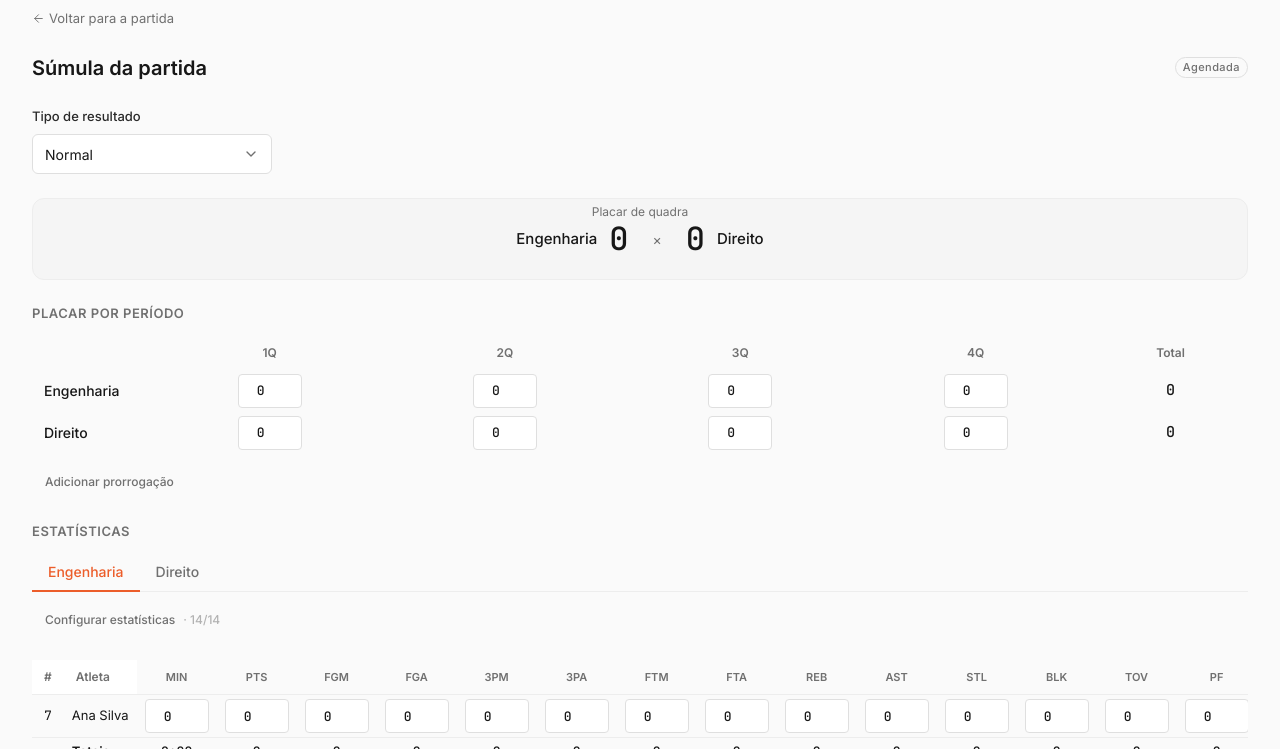
Scenario: MatchSumulaPage — draft › shows the exact API error and preserves edited values
Replace the text in the number field named "Engenharia — 1º período" with "12": (261, 390) [239, 374, 283, 406]
(page scrolled)
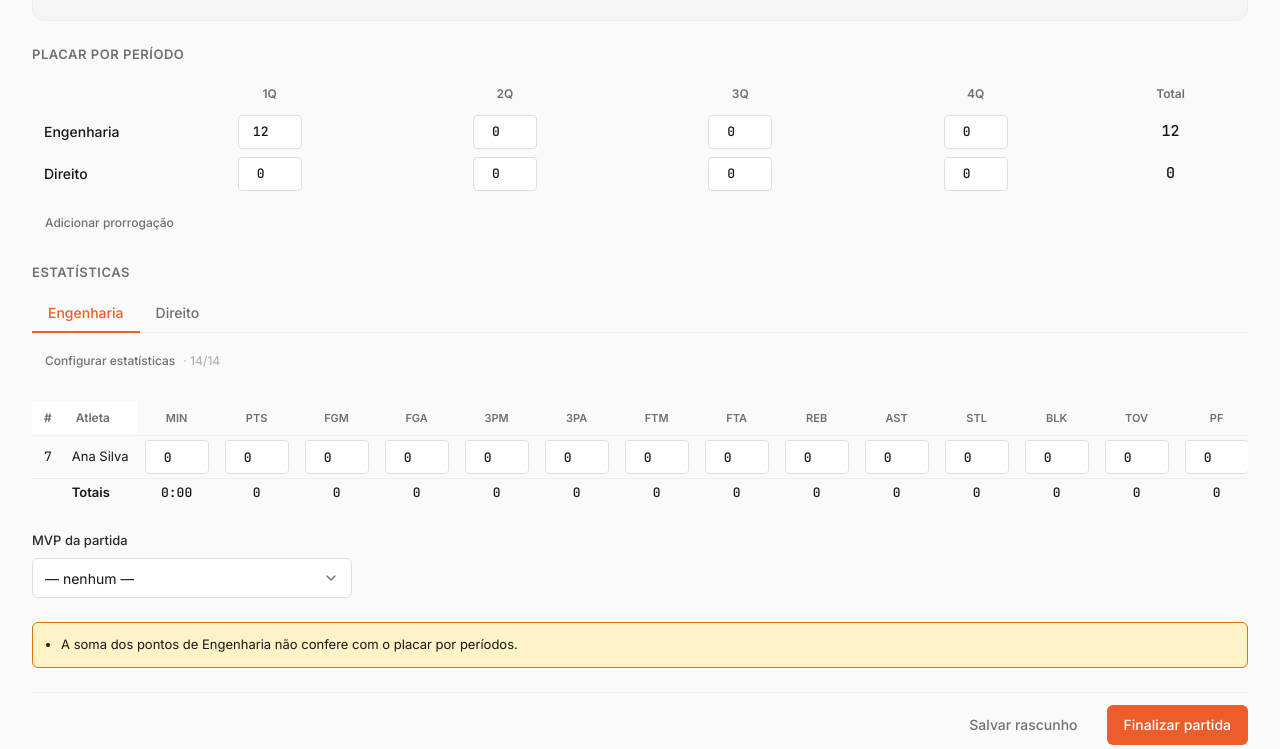
Click the button "Salvar rascunho": (1023, 724) [952, 704, 1095, 744]
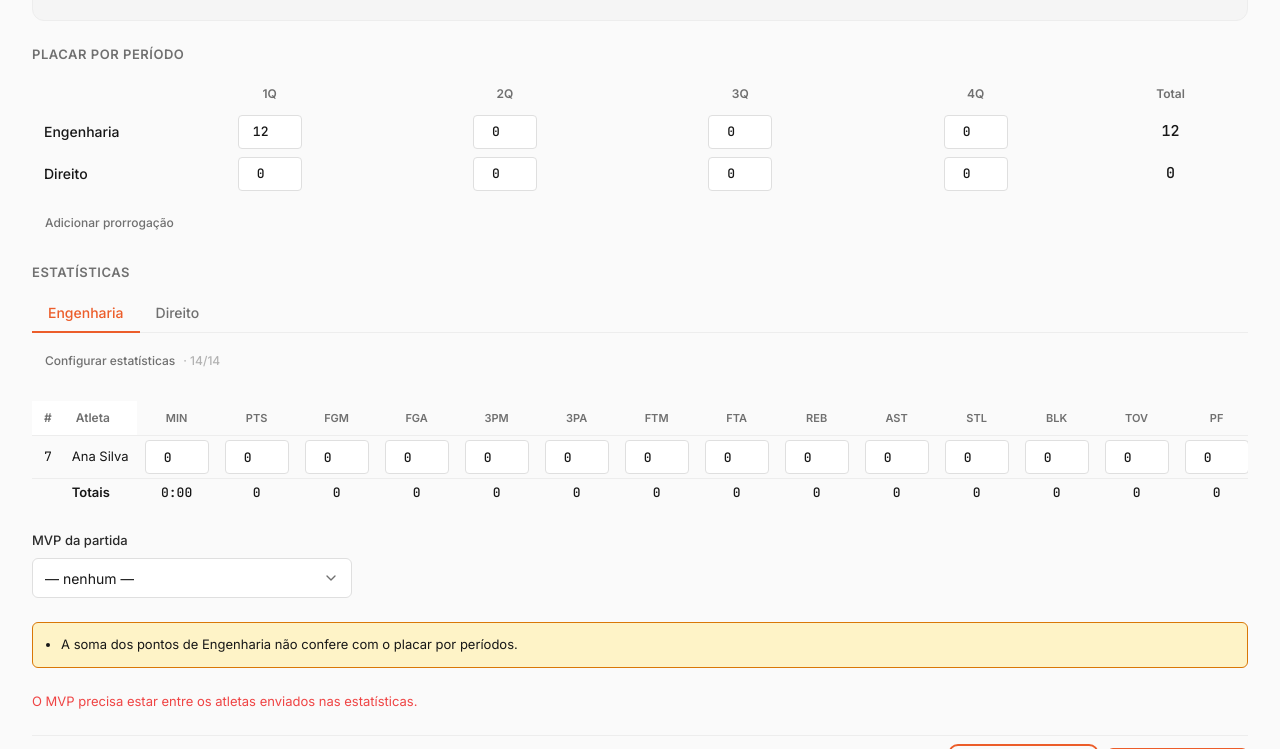
Now the message "O MVP precisa estar entre os atletas enviados nas estatísticas." is shown, box [32, 692, 417, 708]
